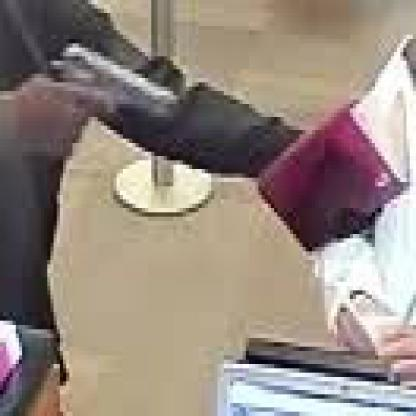gun: (13, 22, 182, 160)
